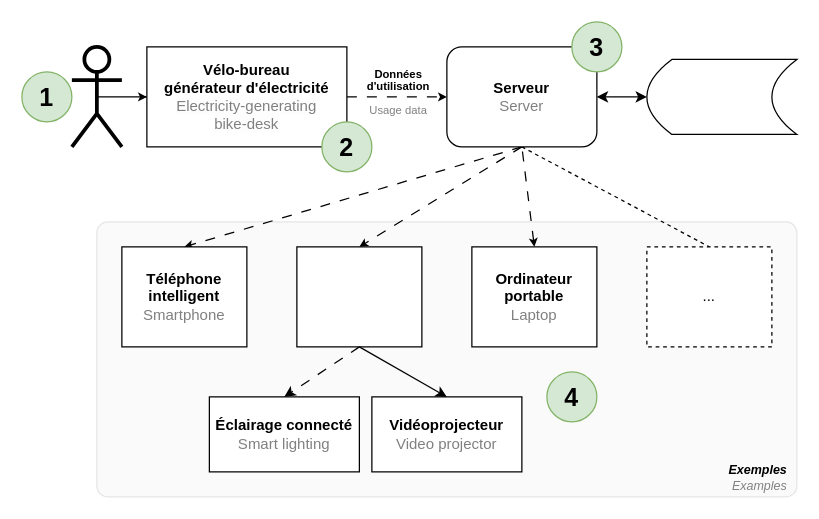
Some shapes in this 819 by 519 pixel diagram are drawn without their labels. Each missing label, with the centre of its shape:
"Base de données Database" belongs at point 721,96.
"Ordinateur monocarte Single-board computer" belongs at point 359,296.
"Personne utilisatrice User" belongs at point 96,96.
